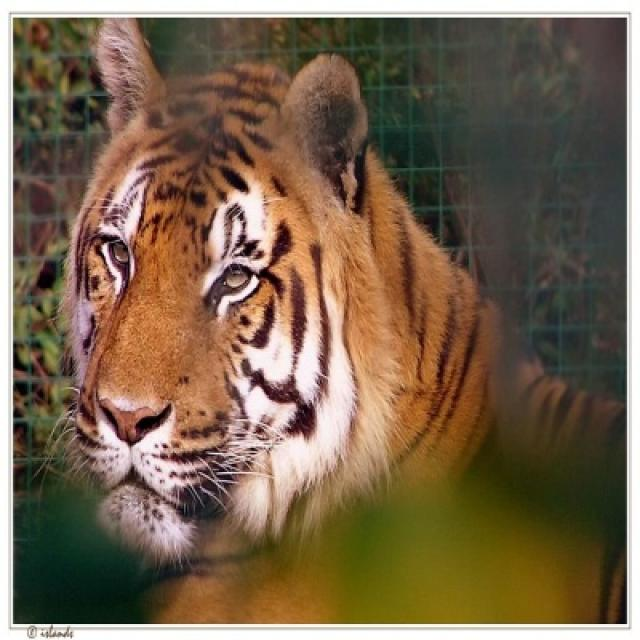Tiger: (70, 17, 621, 610)
